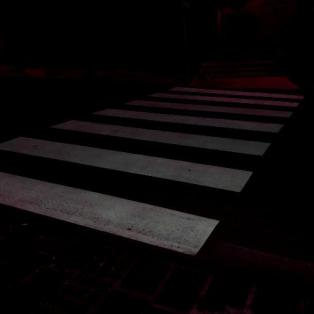Paso de Cebra: (45, 106, 286, 161)
